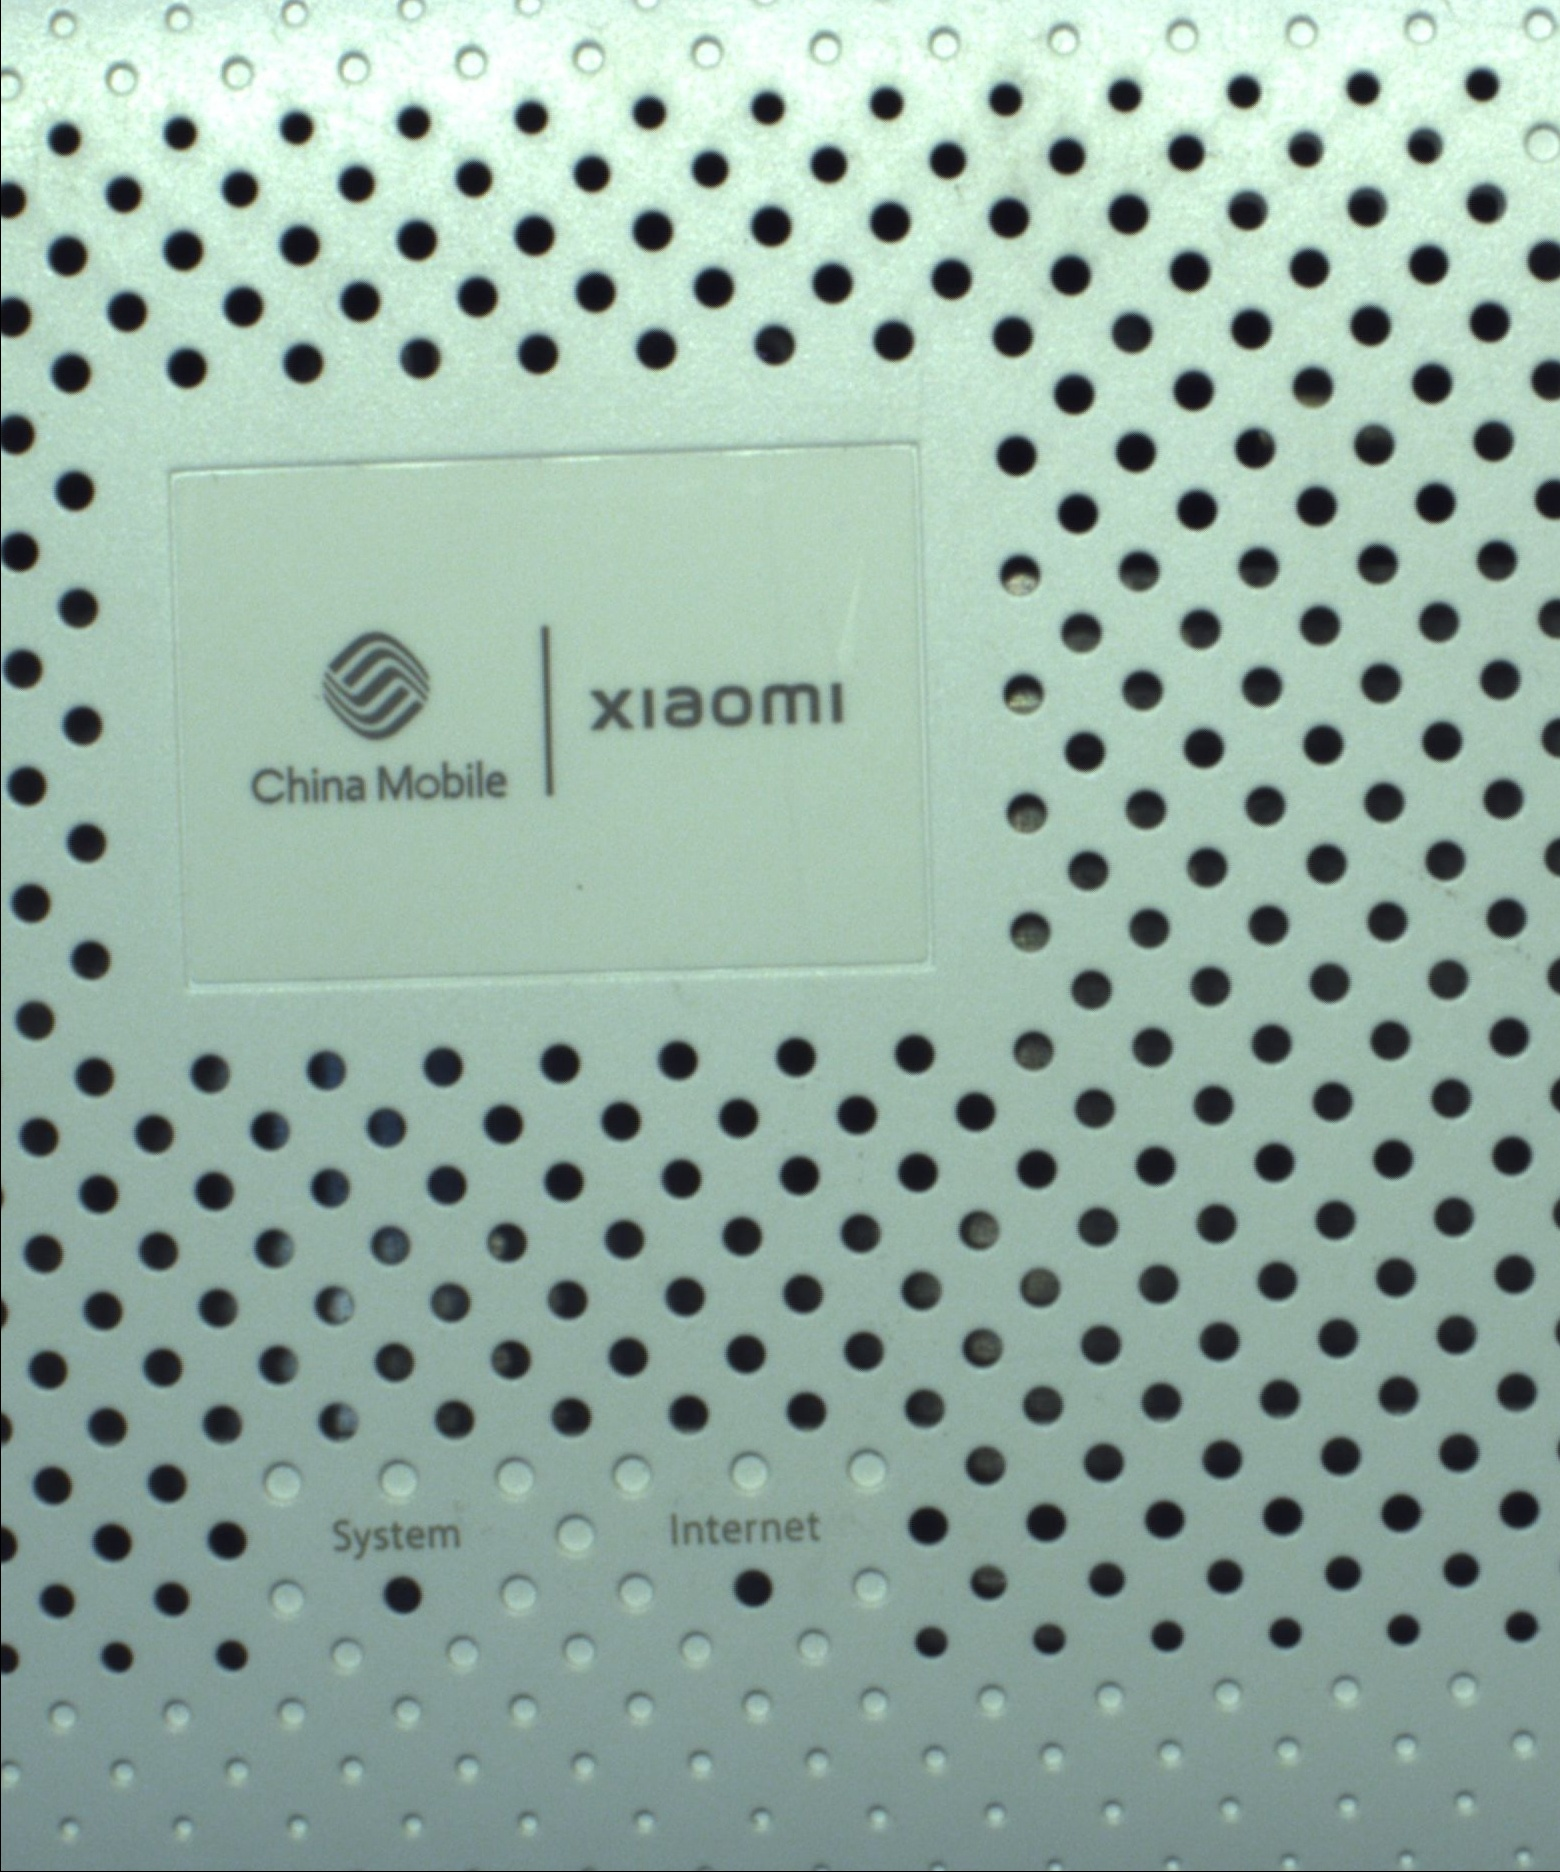MAD_ChinaMobile: (235, 614, 862, 824)
